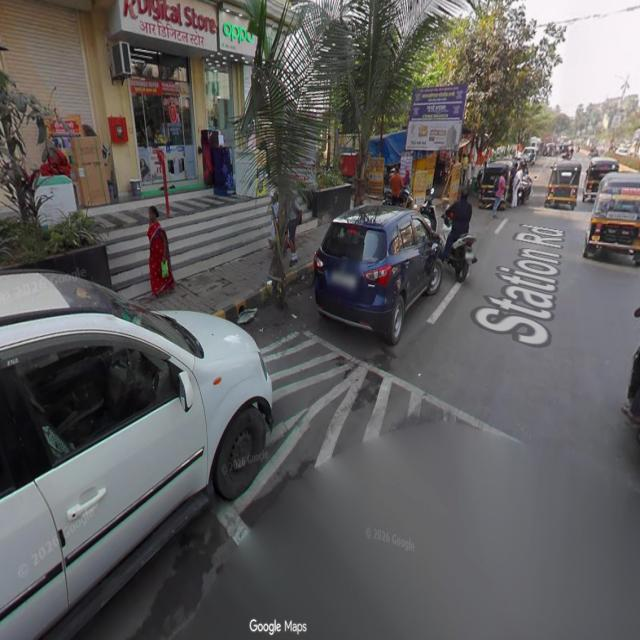illegalparking: (0, 260, 301, 612), (309, 176, 442, 355)
